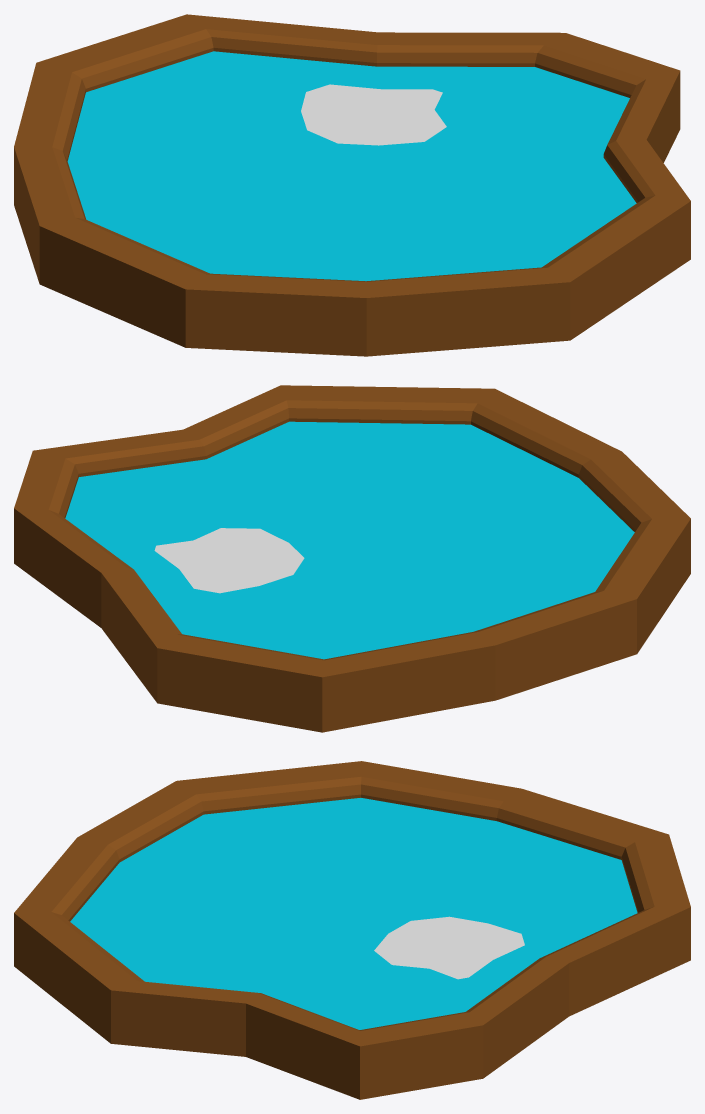
Rendered from puddle_VFX.fbx.
3 views of the same model, one above another, from view 1: azimuth 30°, elevation 25°; view 2: azimuth 150°, elevation 25°; view 3: azimuth 270°, elevation 25° (orthographic). The views are drawn at different scales.
Visible parts, largest first — view 1: Puddle; view 2: Puddle; view 3: Puddle.
Part boxes in pixels (x1,y1,x2,y2): Puddle: (14, 14, 690, 356); Puddle: (14, 385, 690, 732); Puddle: (14, 761, 690, 1099).
Size of the model in its own units: 699 by 61.06 by 701.
